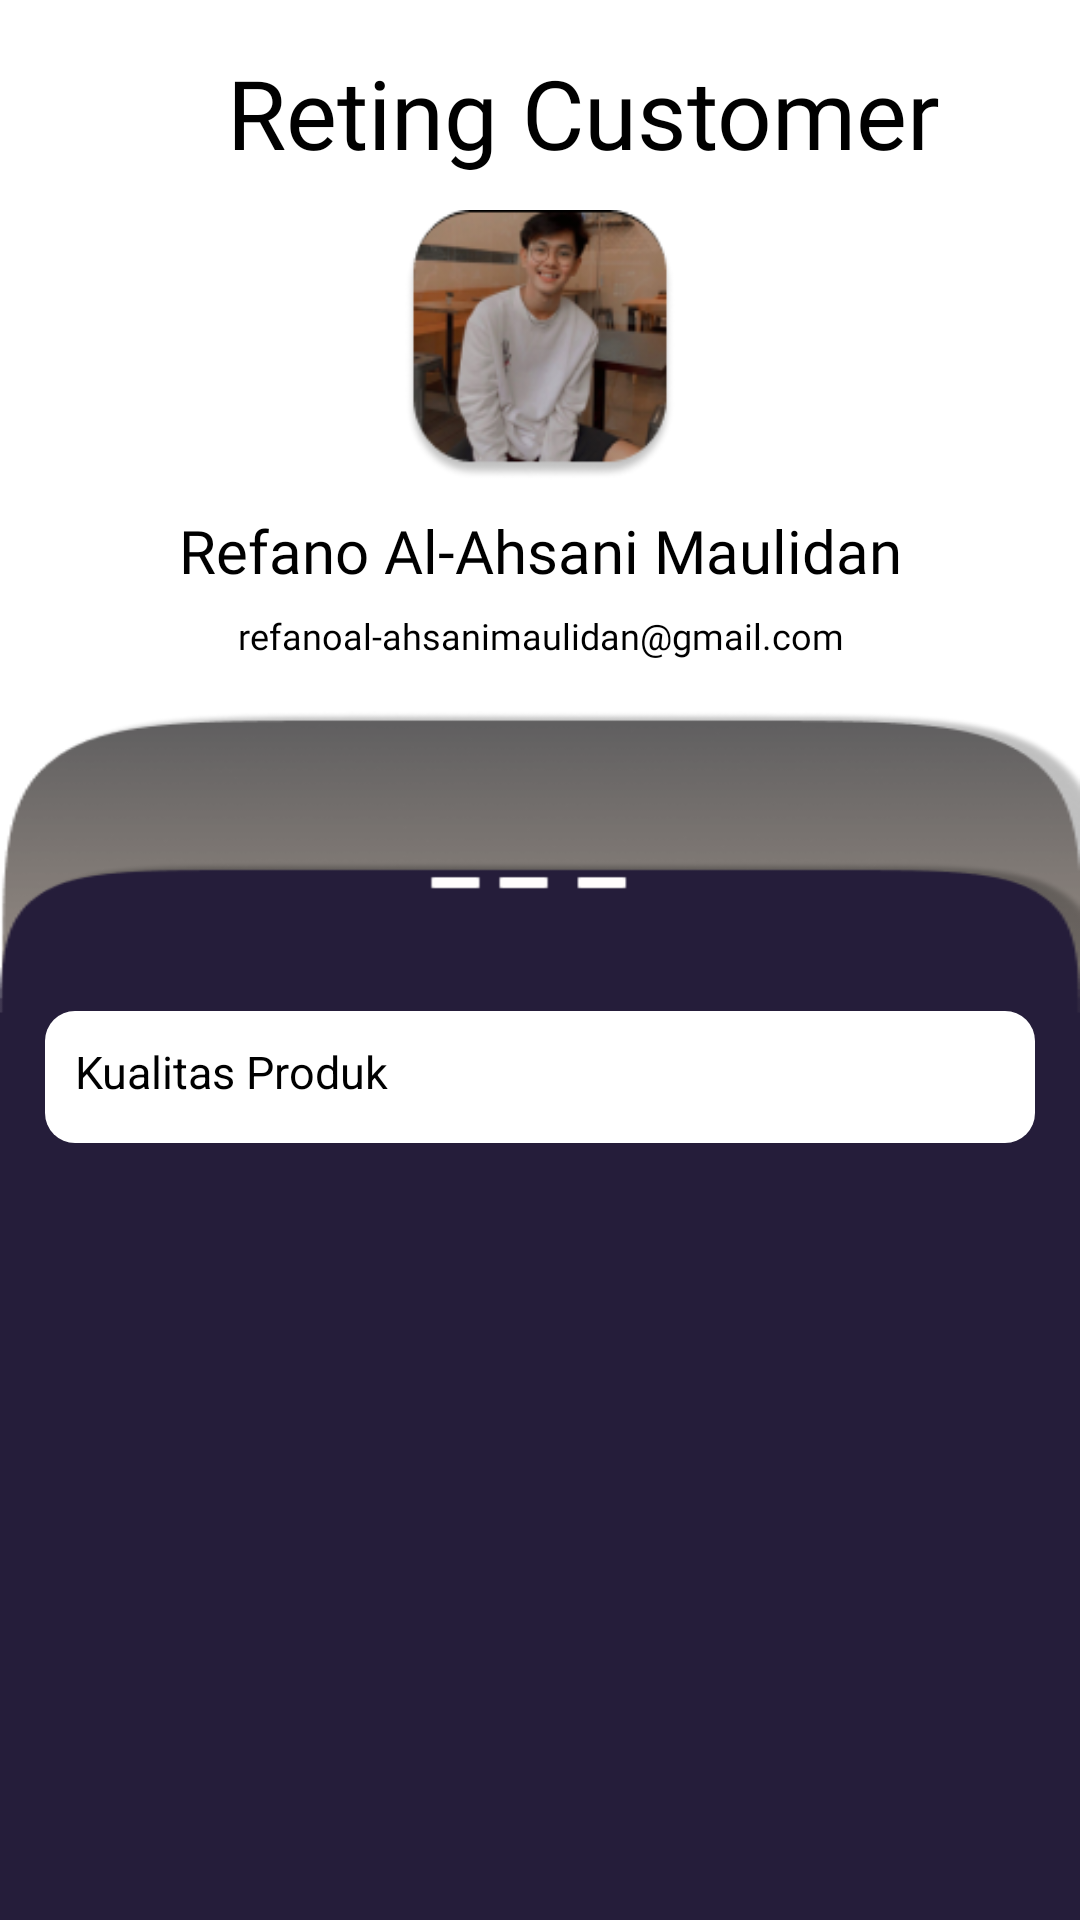

Where icons sit on this 1080x1920 app screen, as (x1, y1, x2, y2):
profilecustomer: (412, 210, 668, 472)
